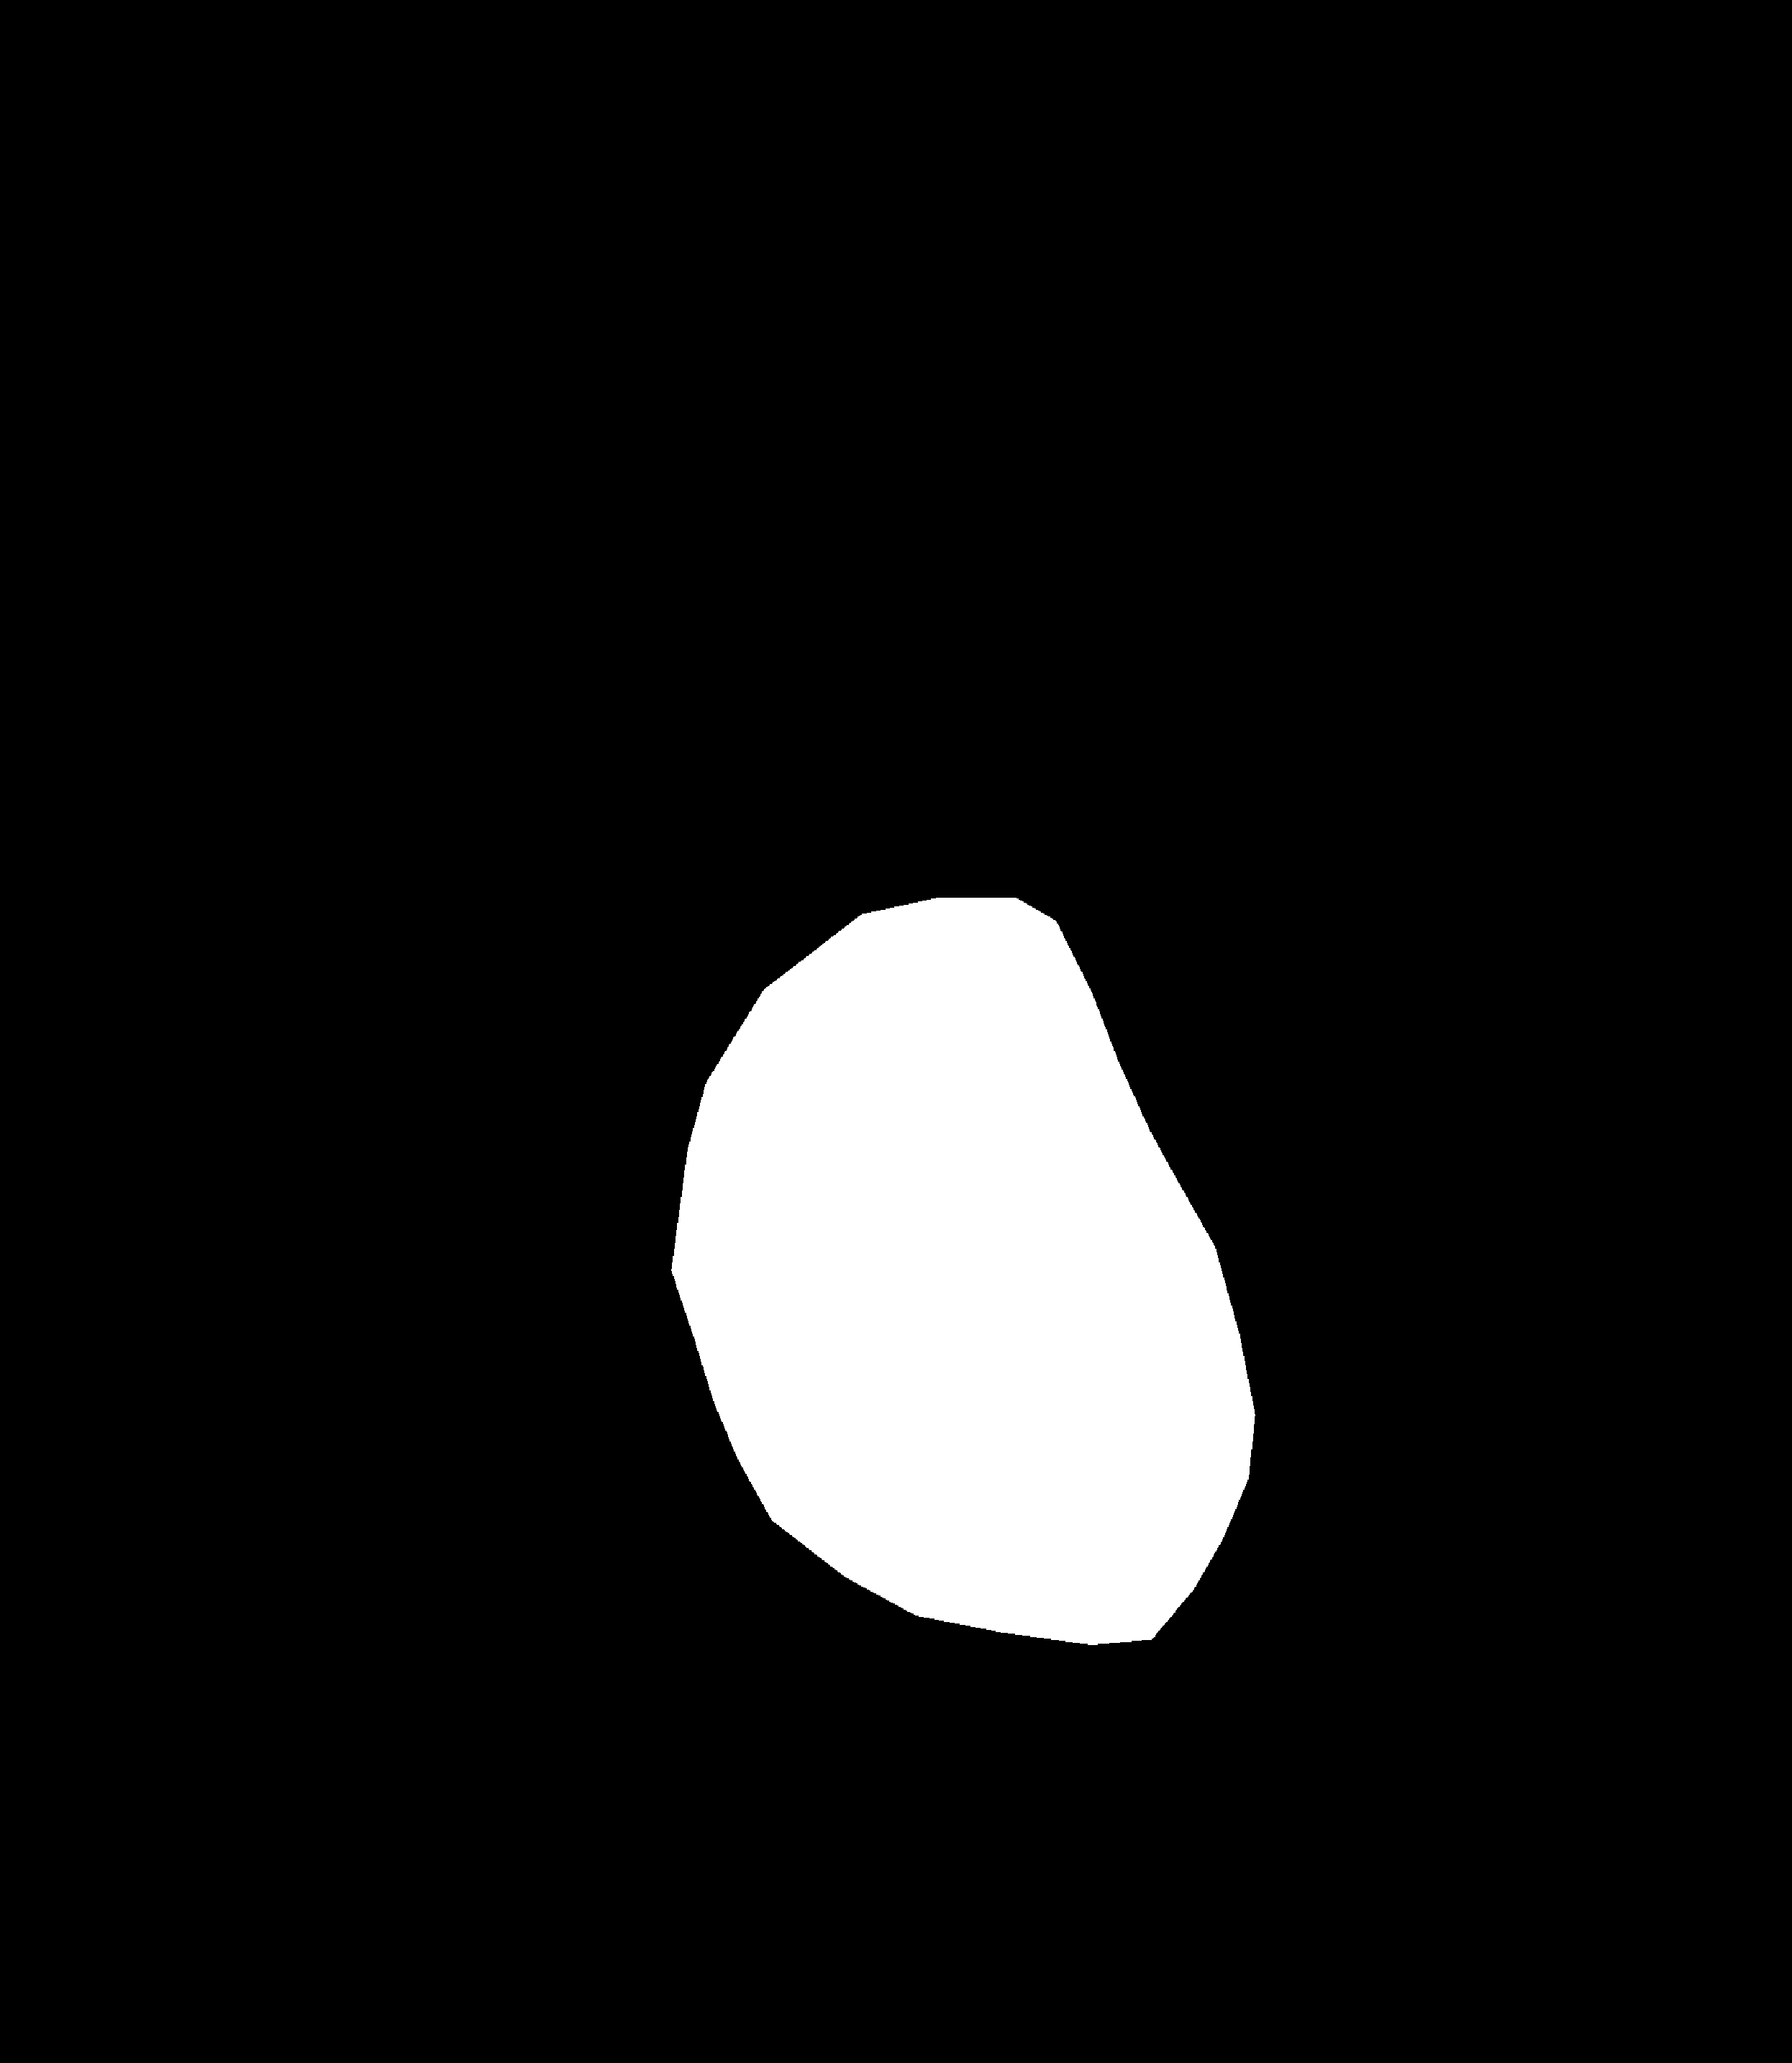heart: (676, 1035, 1251, 1575)
left_lung: (160, 253, 839, 1895)
right_lung: (997, 291, 1587, 1981)
